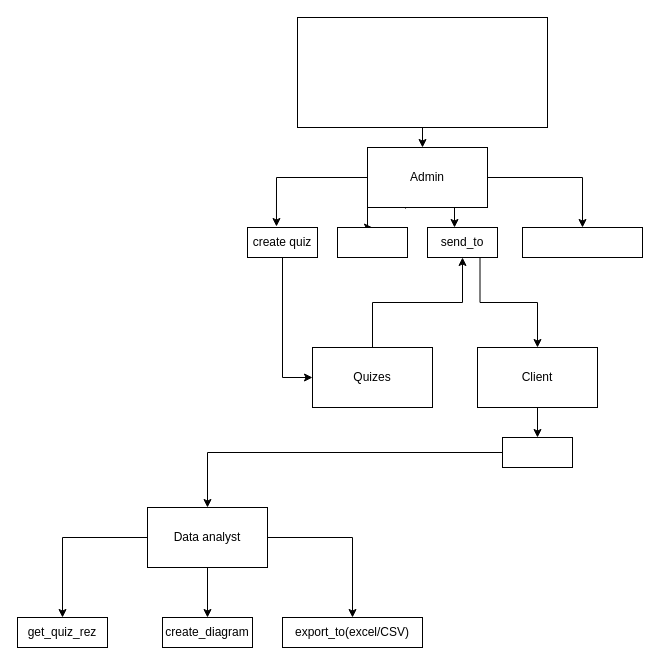
Image size: 660x665. Some labels were removed from this diagram. The shapes that lost their labels are listed below. From the top down, each one's centre as x and y in pixels, then its label:
At point 422,72: "Administration".
At point 372,242: "add_clients".
At point 582,242: "login/authentication".
At point 537,452: "answer_quiz".
